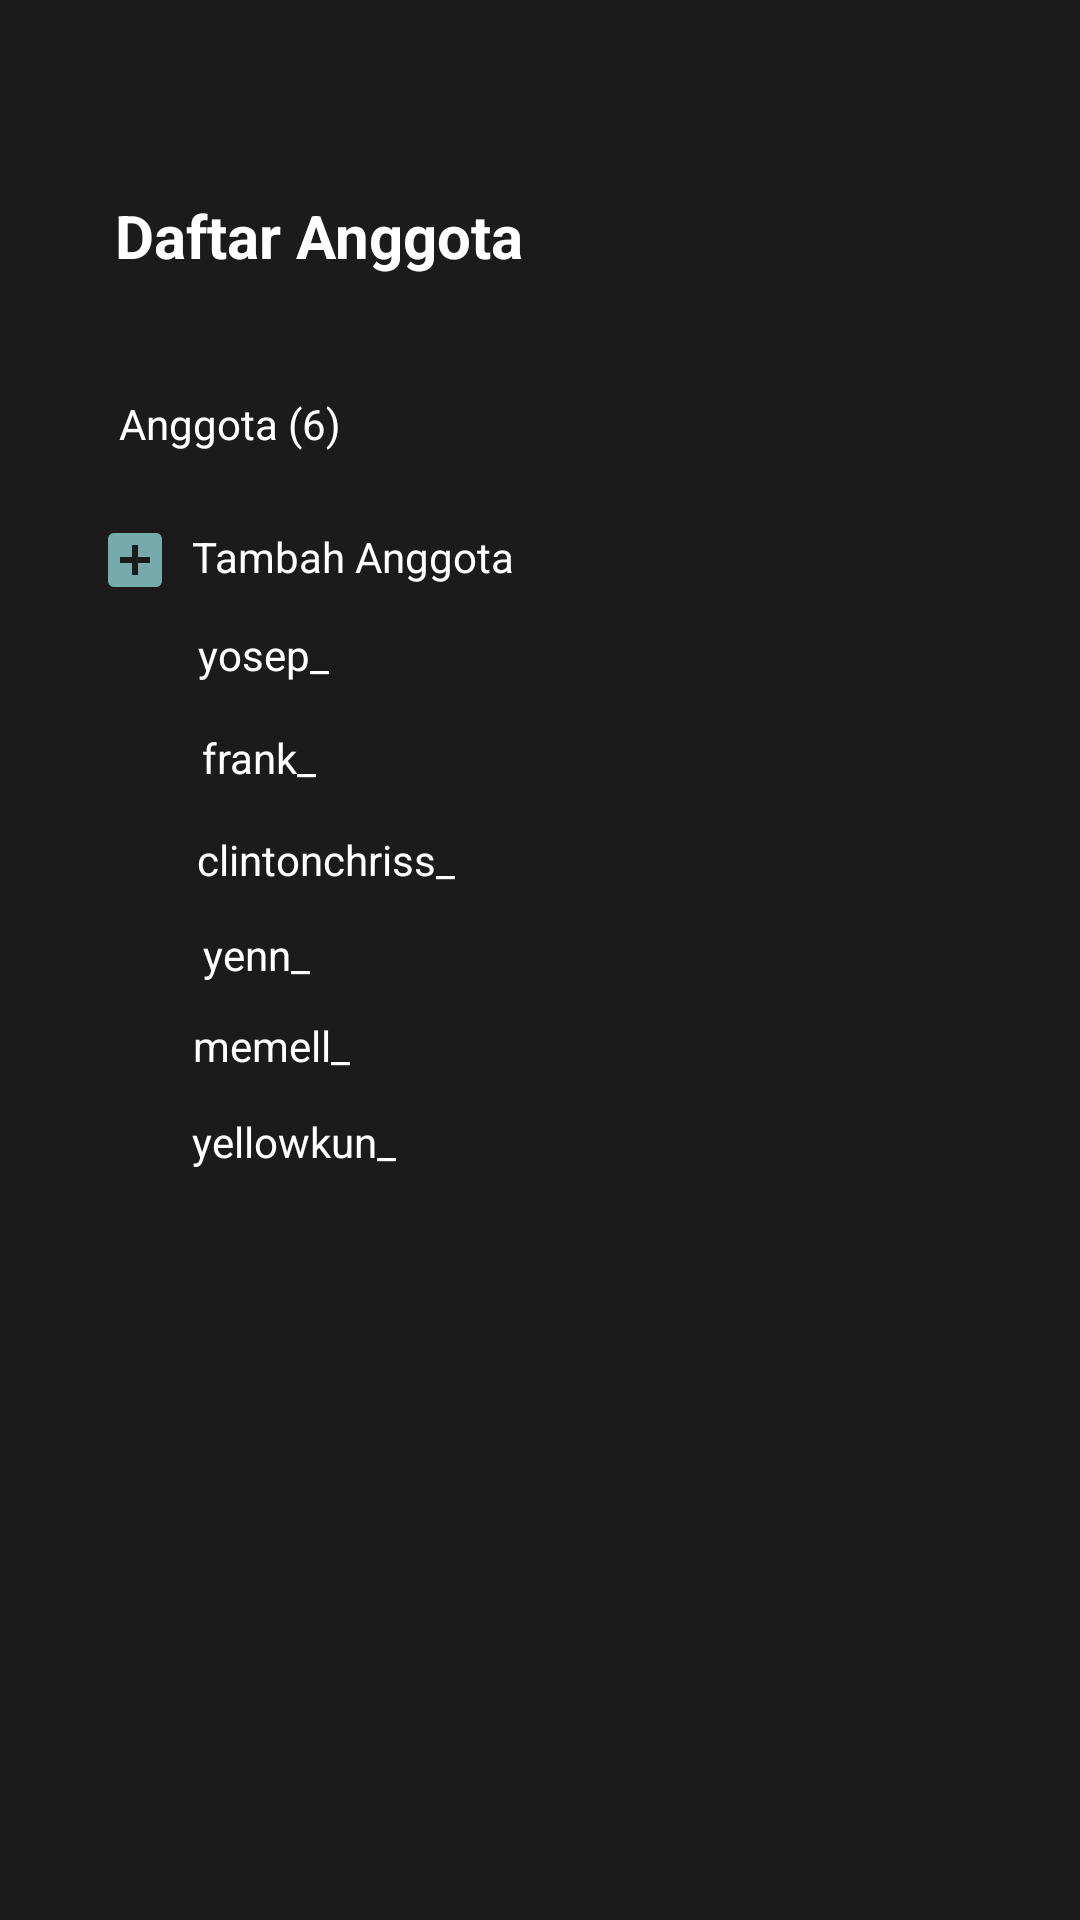

Icon bounding boxes for this 1080w x 1920h phone screenshot, format bbox=[x1, y1, x2, y2]:
add box: bbox=[108, 533, 162, 587]
